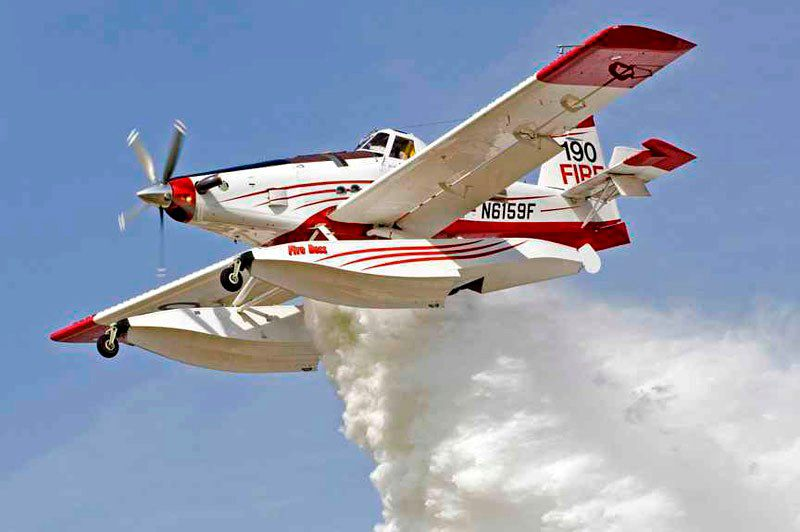Aeronef_de_service: (47, 22, 734, 400)
